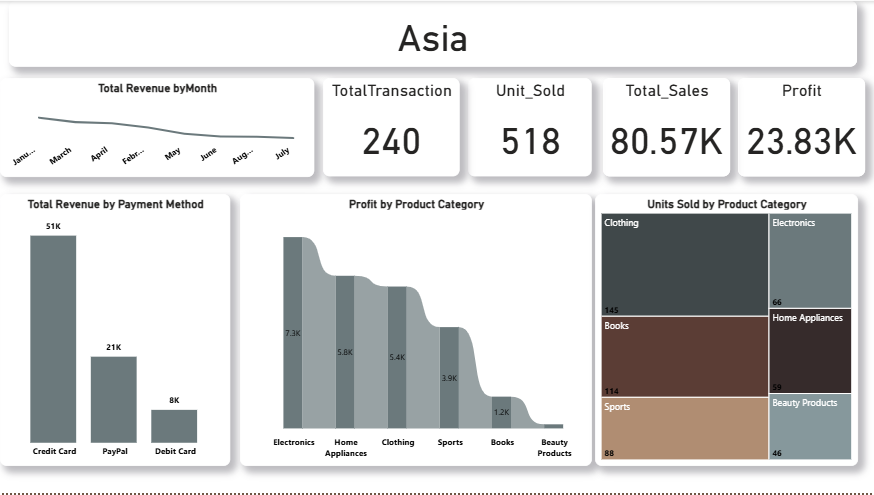

What the dashboard file says about the page in this screenshot:
{"tool":"powerbi","page":{"name":"Region(Drill Through )","canvas":[1280,720],"ordinal":1},"visuals":[{"type":"card","title":"Total_Sales","fields":{"Values":["Min(Online Sales Data.Region)"]},"box":[13.4,0,1241.4,95.7],"z":0},{"type":"group","id":"g1","title":"Group 1","box":[472.7,112.7,595.3,144.9],"z":0,"group":"g2"},{"type":"card","title":"Unit_Sold","fields":{"Values":["Sum(Online Sales Data.Units Sold)"]},"box":[684.7,112.7,181,144.4],"z":0,"group":"g1"},{"type":"columnChart","title":"Total Revenue by Payment Method","fields":{"Category":["Online Sales Data.Payment Method"],"Y":["Sum(Online Sales Data.Total Revenue)"]},"box":[0,282.4,336.6,398],"z":1000},{"type":"card","title":"Profit","fields":{"Values":["Sum(Online Sales Data.Profit)"]},"box":[1080.3,112.7,185.6,144.4],"z":2000,"group":"g2"},{"type":"ribbonChart","title":"Profit by Product Category","fields":{"Category":["Online Sales Data.Product Category"],"Y":["Sum(Online Sales Data.Profit)"]},"box":[351.2,282.4,515.1,398],"z":2000},{"type":"card","title":"Total_Sales","fields":{"Values":["Sum(Online Sales Data.Total Revenue)"]},"box":[882.5,112.7,185.6,144.4],"z":3000,"group":"g1"},{"type":"treemap","title":"Units Sold by Product Category","fields":{"Group":["Online Sales Data.Product Category"],"Values":["Sum(Online Sales Data.Units Sold)"]},"box":[870.1,282.2,384.7,398.1],"z":3000},{"type":"lineChart","title":"Total Revenue byMonth","fields":{"Category":["Online Sales Data.month"],"Y":["Sum(Online Sales Data.Total Revenue)"]},"box":[0,112.7,459.5,144.9],"z":4000},{"type":"group","id":"g2","title":"Group 2","box":[472.7,112.7,793.2,144.9],"z":5000},{"type":"card","title":"TotalTransaction","fields":{"Values":["CountNonNull(Online Sales Data.Transaction ID)"]},"box":[472.7,113.2,199.7,144.4],"z":7000,"group":"g1"}]}

Visuals, with their boxes in screenshot pixels (x1, y1, x2, y2), scaled from the page's 1280x720 canvas onto the 874x495 screenshot:
"Total_Sales" card: 9, 0, 857, 66
"Group 1" group: 323, 77, 729, 177
"Unit_Sold" card: 468, 77, 591, 177
"Total Revenue by Payment Method" columnChart: 0, 194, 230, 468
"Profit" card: 738, 77, 864, 177
"Profit by Product Category" ribbonChart: 240, 194, 592, 468
"Total_Sales" card: 603, 77, 729, 177
"Units Sold by Product Category" treemap: 594, 194, 857, 468
"Total Revenue byMonth" lineChart: 0, 77, 314, 177
"Group 2" group: 323, 77, 864, 177
"TotalTransaction" card: 323, 78, 459, 177
